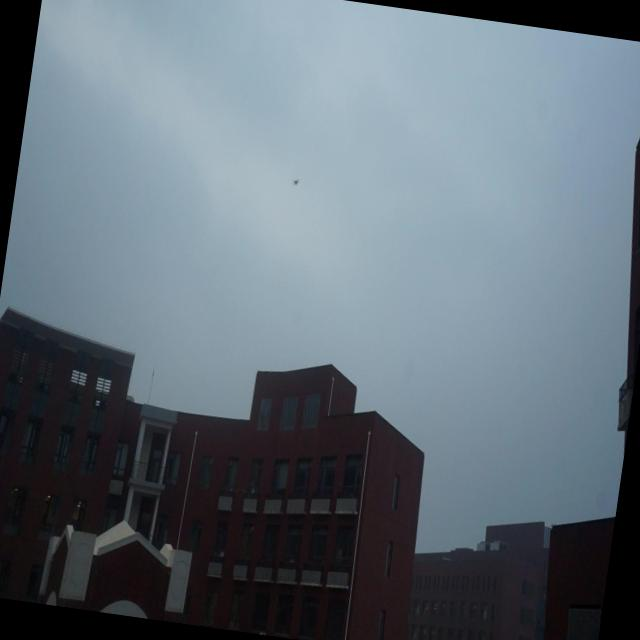drone: (290, 174, 302, 190)
